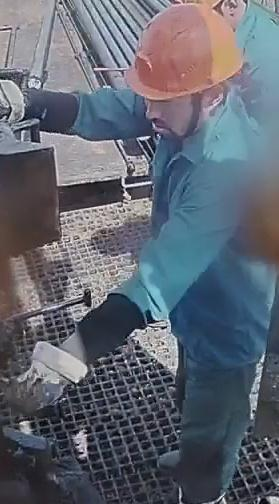gloves: (2, 331, 95, 416), (0, 79, 32, 124)
helmet: (123, 2, 244, 101)
vest: (148, 89, 277, 367), (234, 0, 276, 89)
